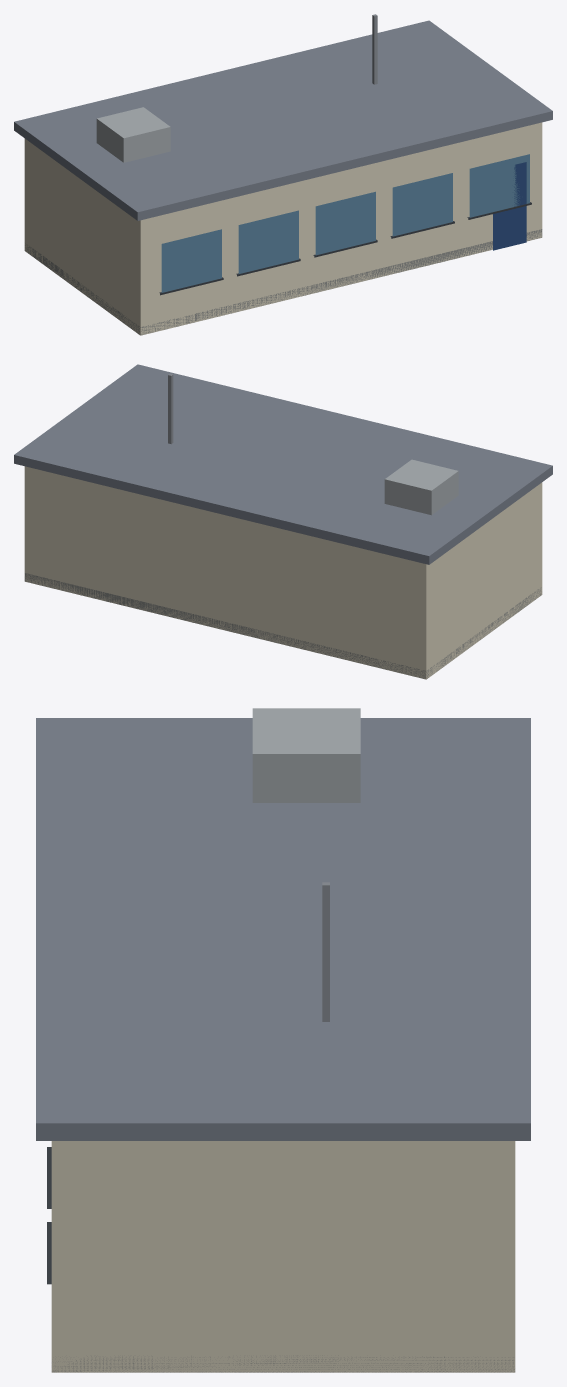
The model's file is gate-office.glb.
3 renders of one model, top to bottom at view 1: azimuth 30°, elevation 25°; view 2: azimuth 150°, elevation 25°; view 3: azimuth 270°, elevation 25°, orthographic. The views are drawn at different scales.
Visible parts, largest first — view 1: office; view 2: office; view 3: office.
Part boxes in pixels (left/top/right/bottom): office: left=14, top=14, right=552, bottom=335; office: left=14, top=364, right=552, bottom=679; office: left=36, top=708, right=530, bottom=1372.
Size of the model in its own units: 12.4 by 5.6 by 6.4.
Materials: 1 (1 with a texture image).
